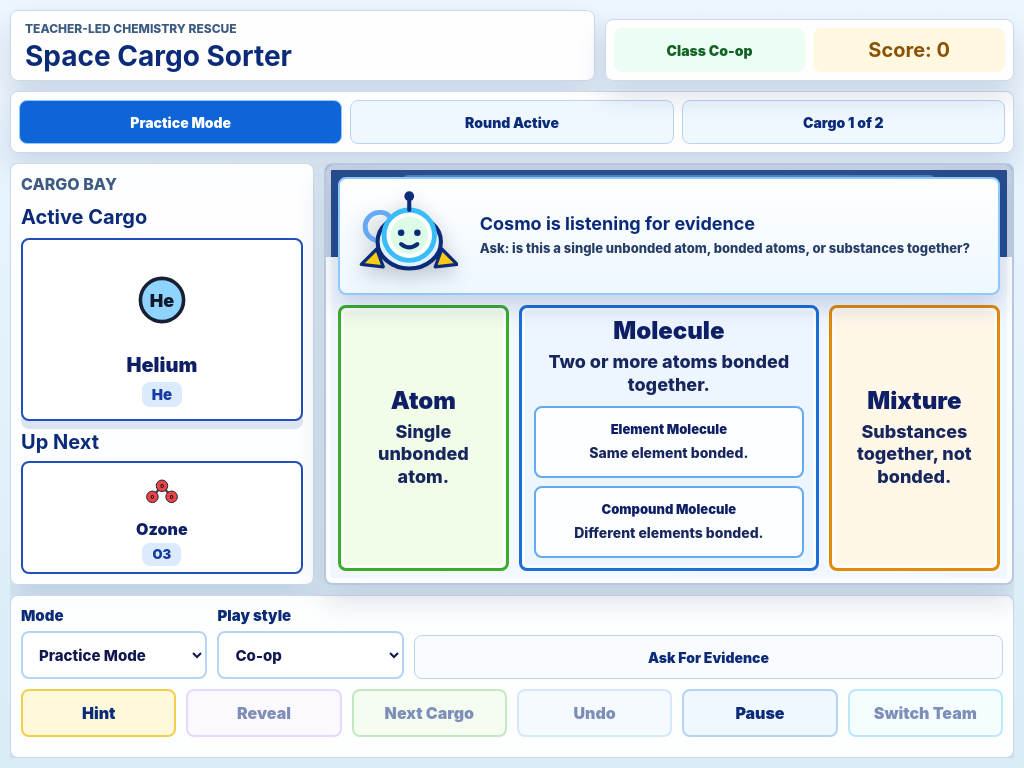
Test case: MissionBoard › supports team turns
The image size is (1024, 768).
Step 1. Select "Team Turns" in the dropdown labelled "Play style" → (311, 655), box left=218, top=631, right=404, bottom=679
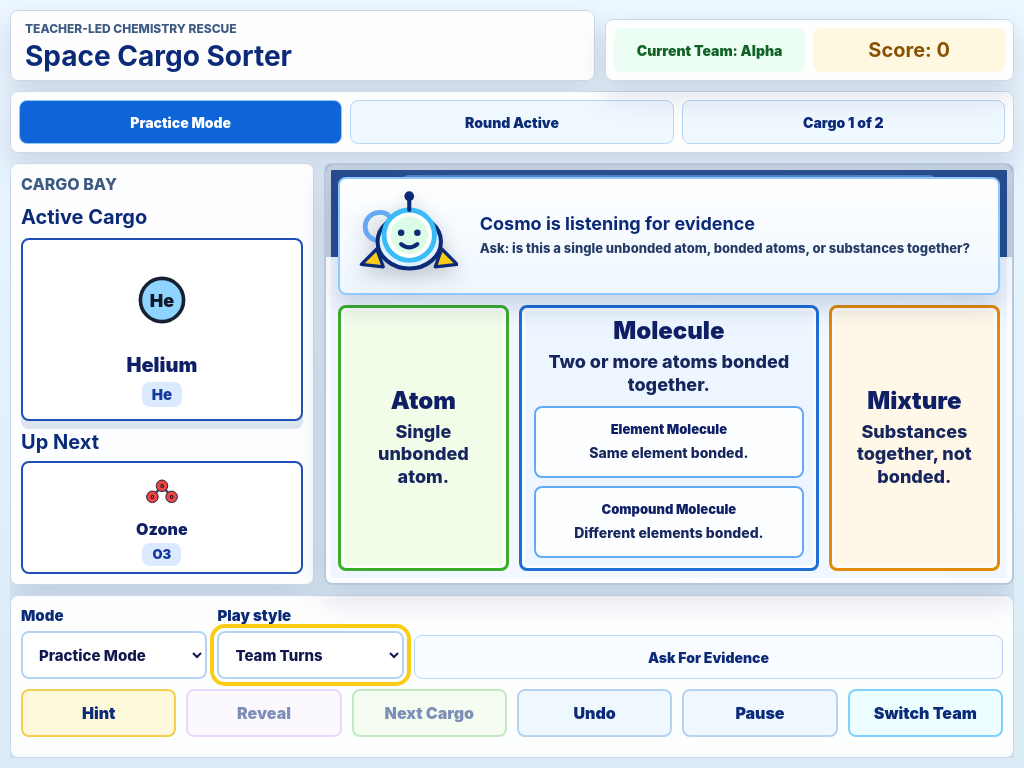
Step 2. Click the button "Switch Team" → (925, 713), box left=848, top=689, right=1003, bottom=737
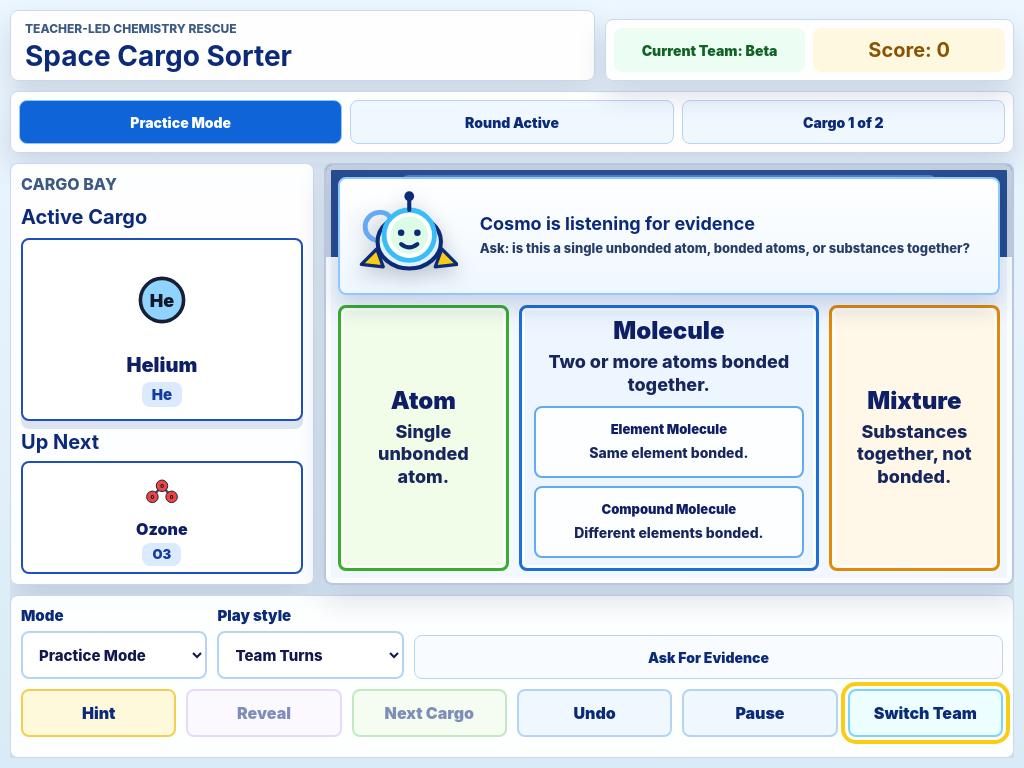
Expected: the text "Current Team: Beta" is shown, left=614, top=28, right=805, bottom=72
